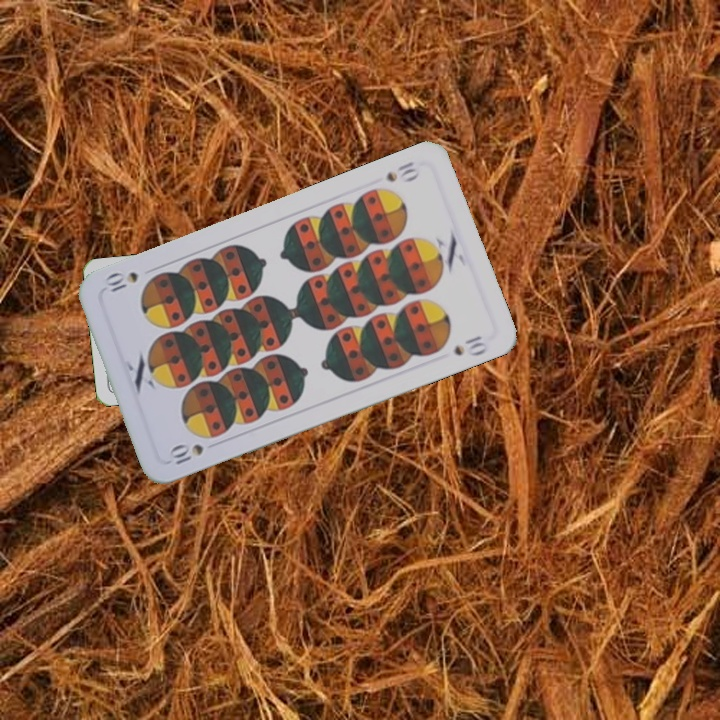S10: (382, 157, 422, 185), (167, 440, 206, 467)
